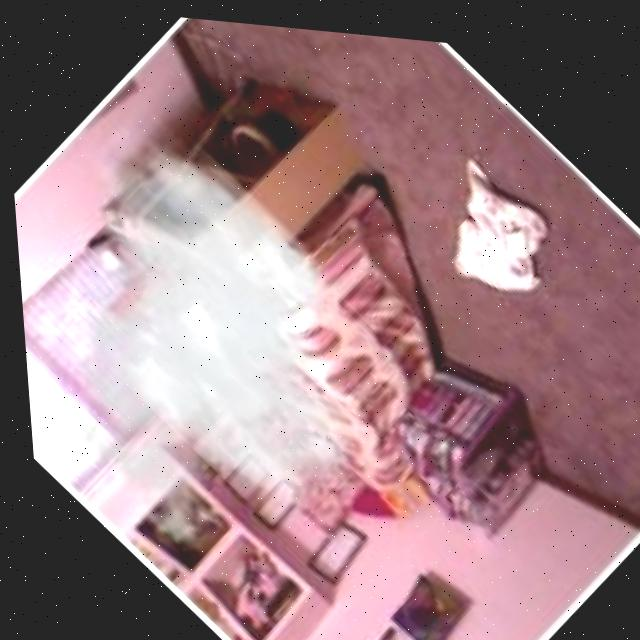Smoke: (5, 82, 465, 639)
